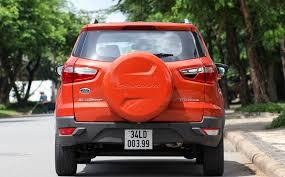number_plate: (123, 128, 155, 152)
